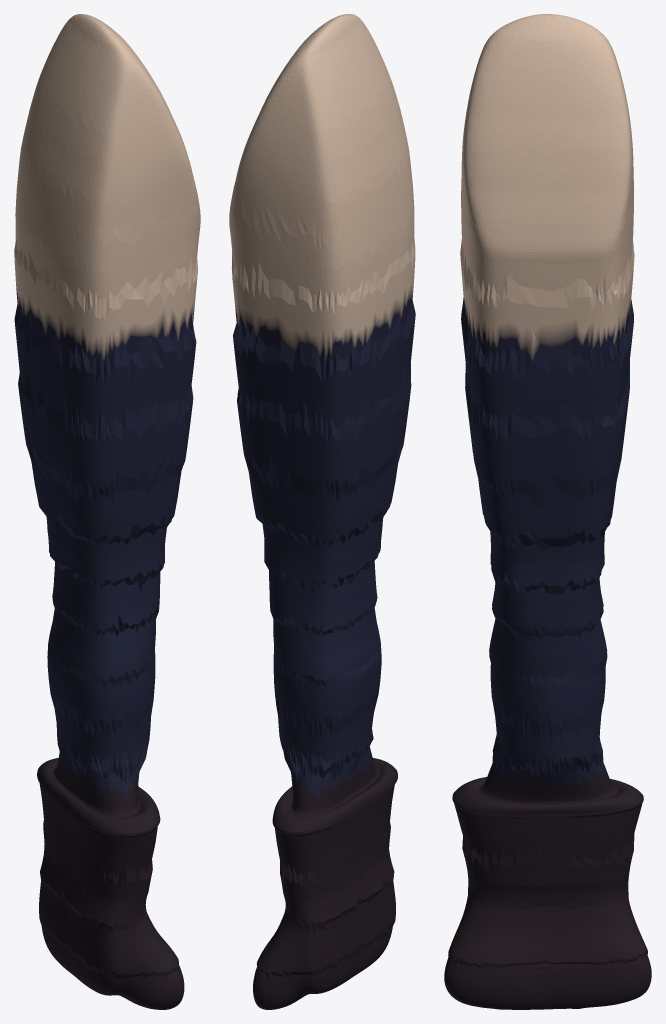
File: leg_L.glb
3 renders of one model, left to right at view 1: azimuth 30°, elevation 25°; view 2: azimuth 150°, elevation 25°; view 3: azimuth 270°, elevation 25°, orthographic.
Visible parts, largest first — view 1: geometry_0; view 2: geometry_0; view 3: geometry_0.
Boxes of the visible parts, x1,y1,x2,y2 form: geometry_0: [14, 14, 200, 1009]; geometry_0: [229, 14, 415, 1009]; geometry_0: [444, 14, 651, 1009].
Bounding box in the file's own units: 0.1979 × 1.38 × 0.265.
